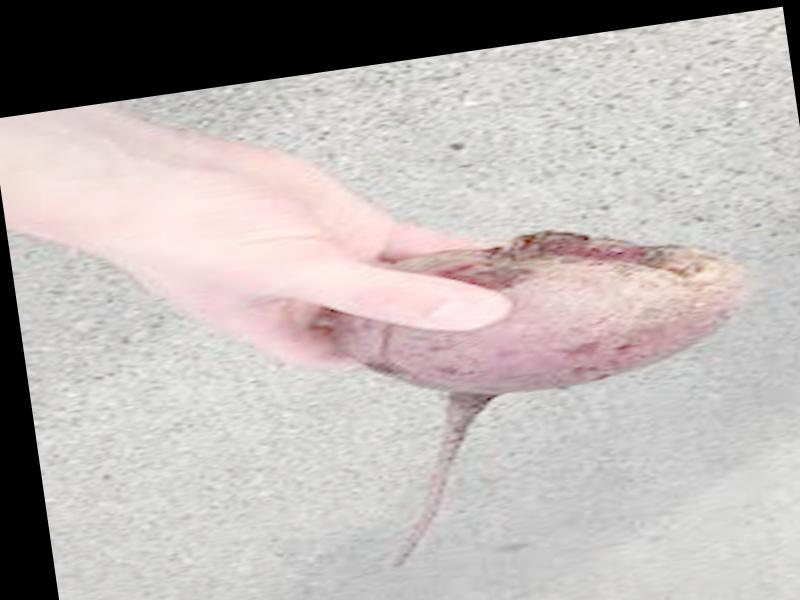Beet: (333, 204, 778, 568)
